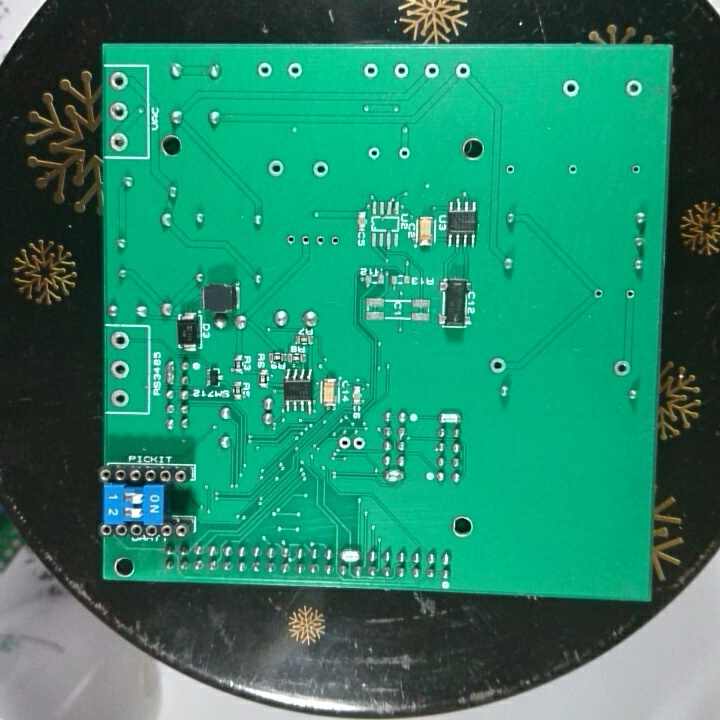F: (106, 69, 131, 92), (108, 359, 133, 382), (108, 98, 130, 123), (109, 328, 132, 351), (622, 78, 645, 100), (108, 130, 130, 153), (451, 60, 473, 82), (560, 78, 582, 99), (609, 358, 631, 379), (310, 159, 331, 180), (109, 387, 131, 407), (266, 157, 286, 179), (254, 59, 274, 80), (487, 355, 508, 375), (362, 60, 382, 80), (284, 60, 304, 80), (422, 60, 441, 80), (392, 60, 411, 80), (396, 143, 413, 163), (502, 160, 519, 179), (283, 229, 299, 249), (591, 284, 607, 304), (365, 144, 382, 162), (622, 286, 639, 303), (565, 160, 581, 178), (351, 434, 367, 452), (298, 232, 314, 249), (336, 433, 352, 450), (313, 231, 328, 249), (329, 232, 342, 252), (629, 160, 643, 177)
P: (338, 546, 365, 566), (436, 409, 462, 427), (163, 357, 177, 386), (381, 468, 406, 484)
